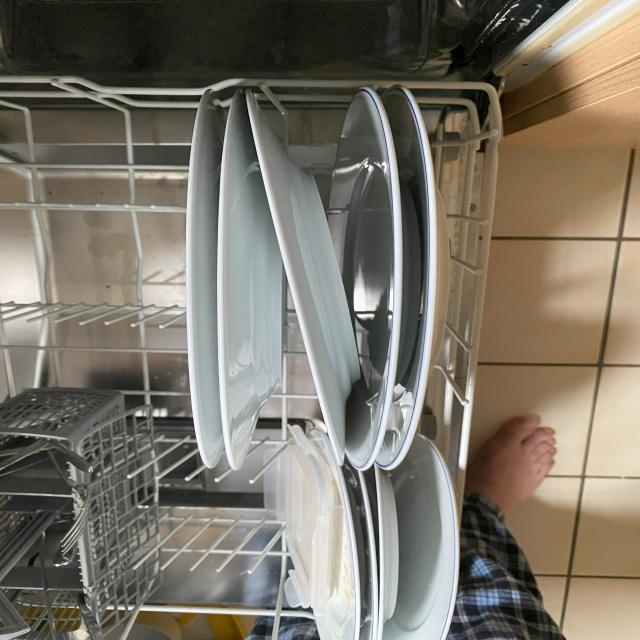clutery_bin: (1, 431, 85, 640)
empty_slot: (3, 91, 186, 401), (130, 450, 289, 600)
